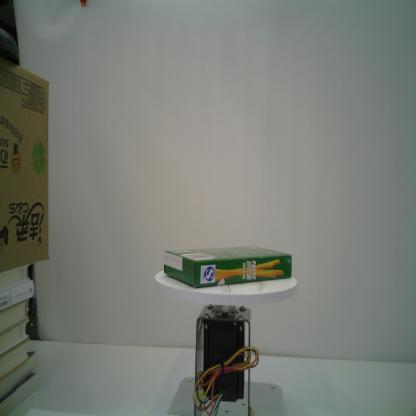Dessert: (163, 245, 293, 288)
